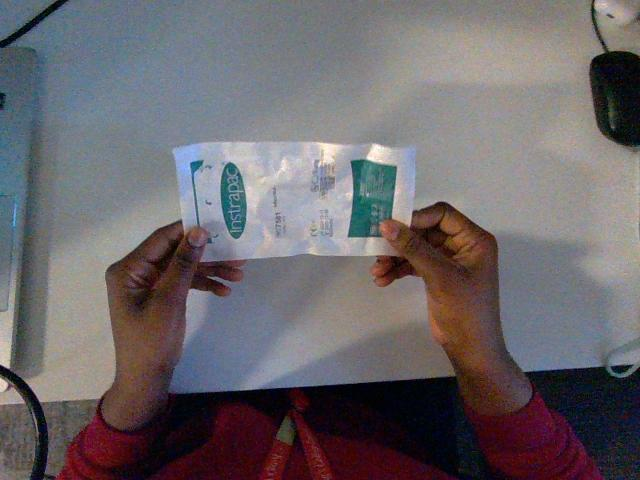gallipot: (173, 142, 414, 260)
